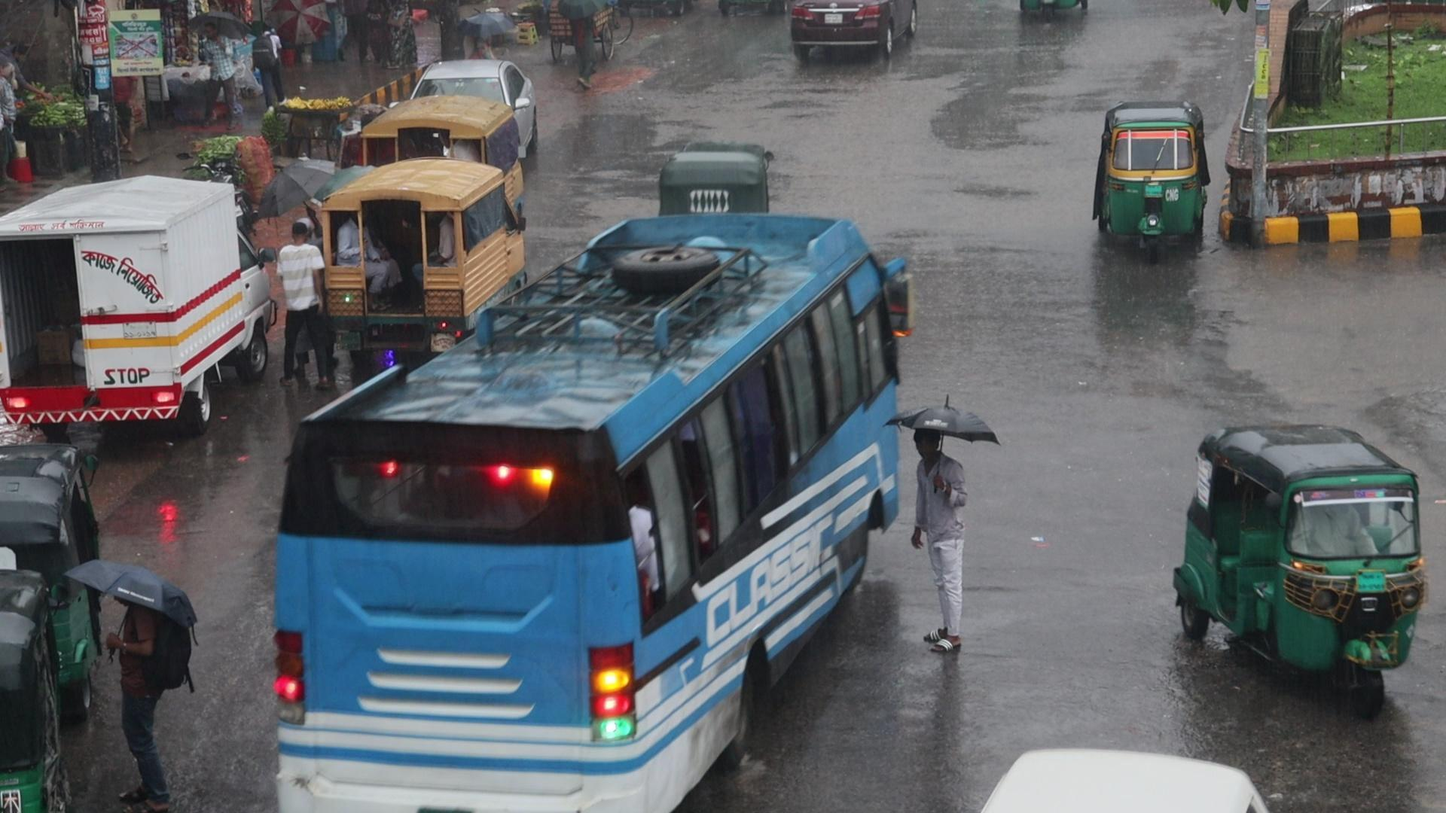Bus: (264, 209, 910, 813)
Car: (757, 0, 901, 96)
Truck: (309, 155, 522, 384)
